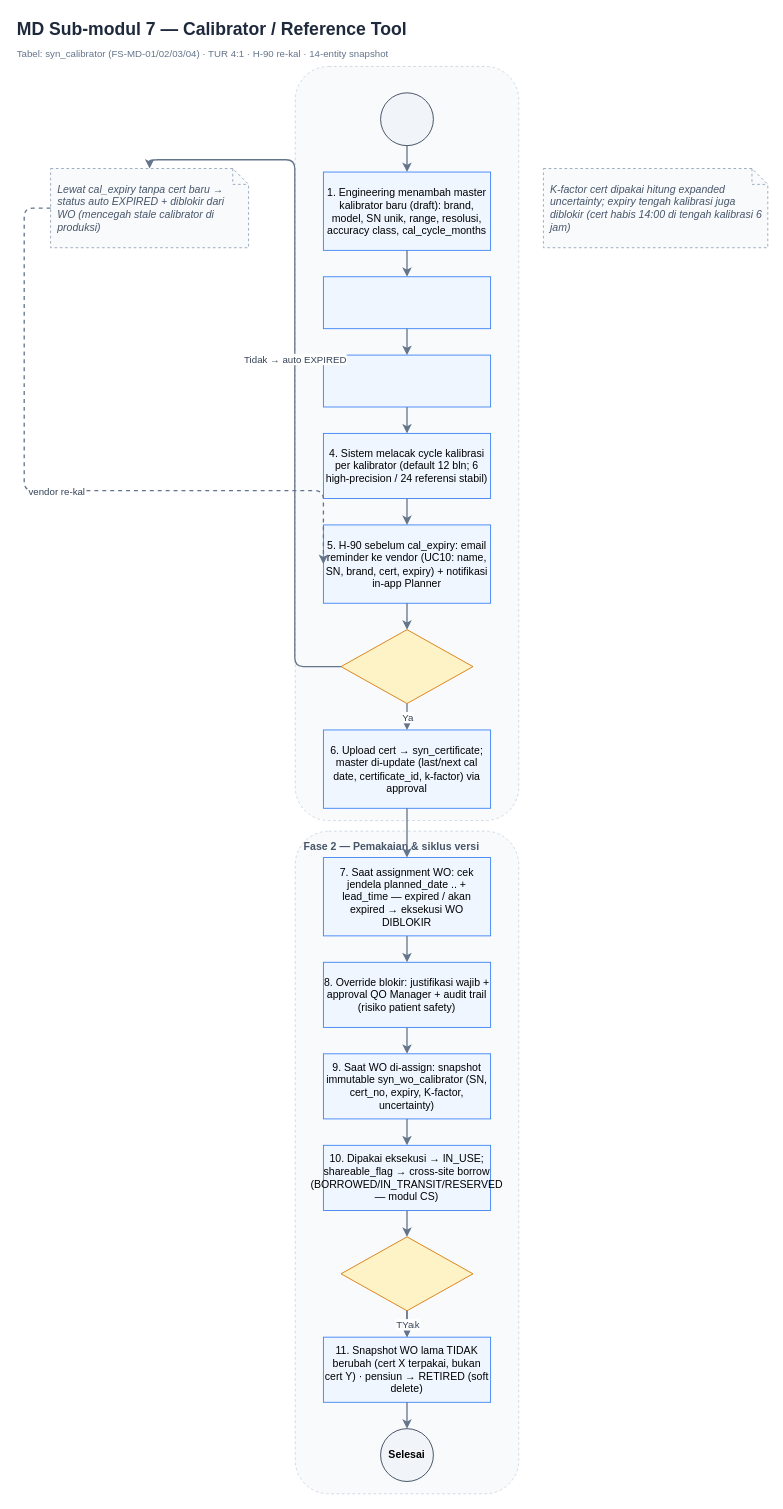
Image size: 783x1509. Some labels were removed from this diagram. Each missing label, with the box of its shape:
2. Sistem validasi field + TUR 4:1 vs UUT + link cert aktif: (323, 276, 491, 329)
3. Submit → review → approval e-sign → effective; status AVAILABLE: (323, 354, 491, 407)
Cert baru diterima sebelum expiry?: (340, 629, 473, 704)
Fase 1 — Pembuatan, validasi & approval: (294, 66, 519, 821)
Master di-update kemudian?: (340, 1236, 473, 1311)
Mulai: (380, 92, 433, 146)
